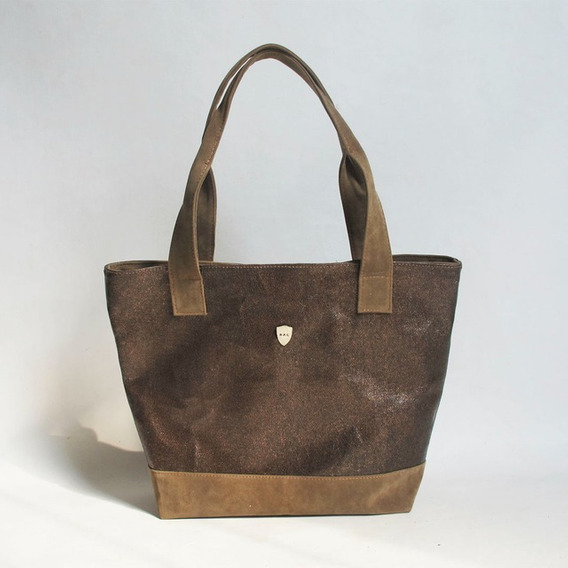cartera: (104, 43, 462, 521)
